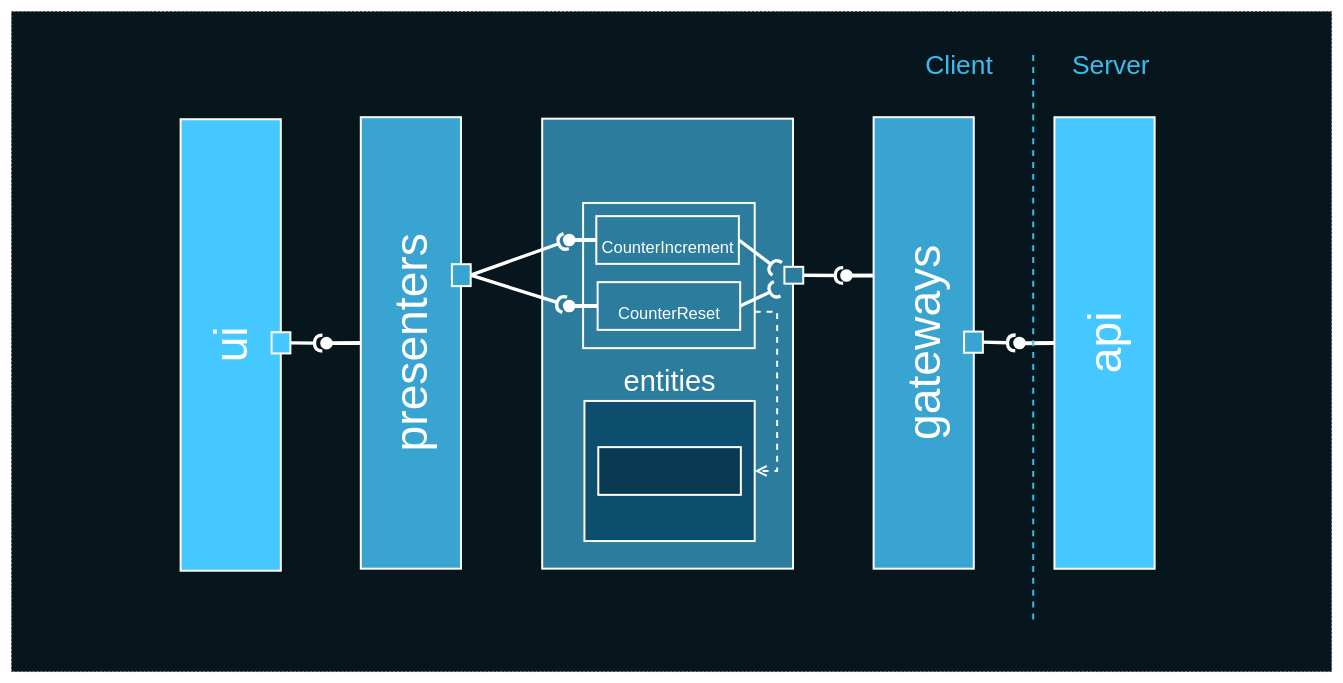
This 1343x683 diagram has some shape labels left out. Each missing label, with the box of its shape:
Counter: (597, 446, 742, 496)
domain: (541, 117, 794, 569)
usecases: (582, 202, 755, 349)
